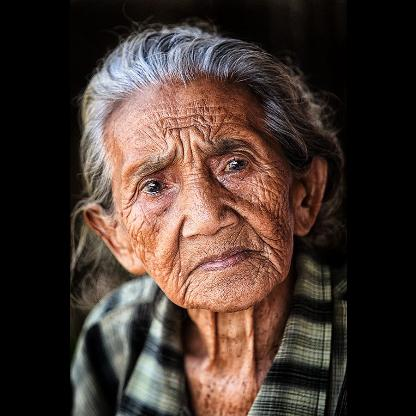Female: (86, 73, 326, 311)
